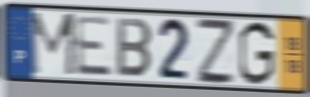2: (157, 14, 195, 87)
B: (115, 15, 155, 80)
E: (73, 15, 115, 79)
G: (236, 19, 276, 88)
M: (29, 10, 79, 79)
Z: (194, 16, 238, 87)
